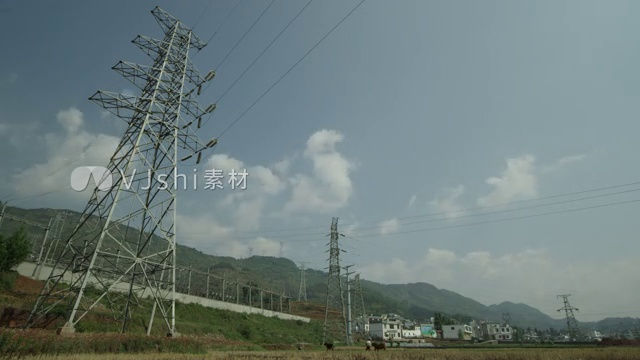tower_body: (320, 210, 361, 350)
tower_foot: (31, 252, 184, 340)
tower_head: (126, 8, 225, 84)
